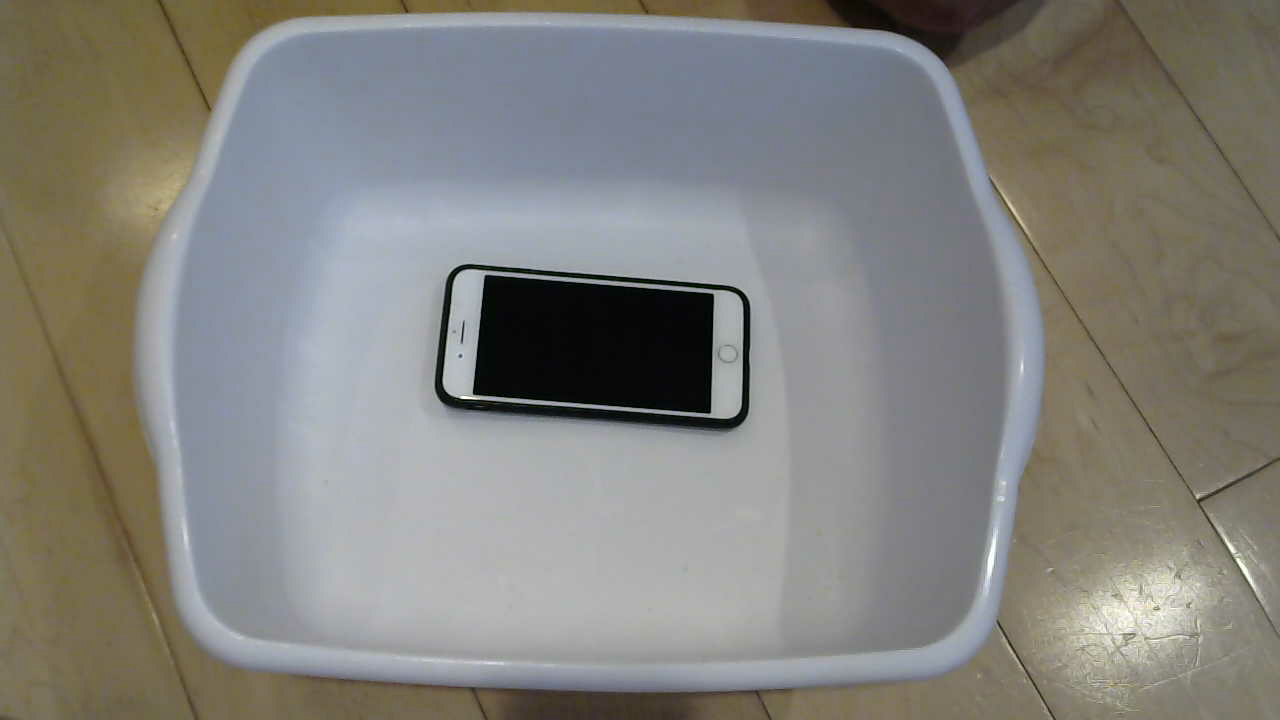phone: (395, 264, 769, 441)
